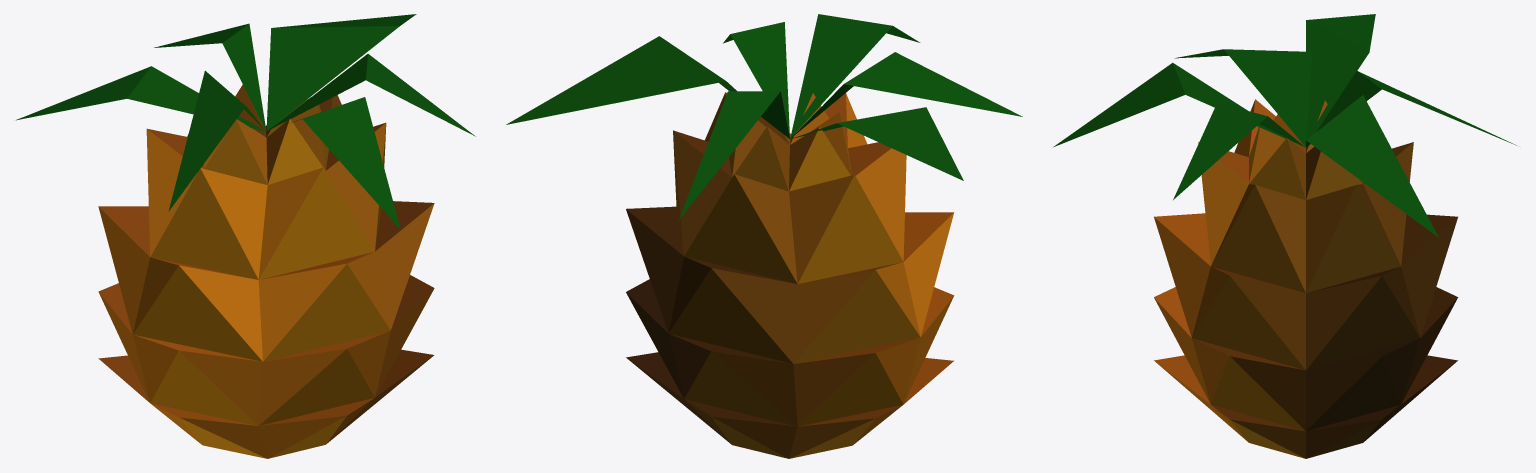
The model's file is pineapple.obj.
3 renders of one model, left to right at view 1: azimuth 30°, elevation 25°; view 2: azimuth 150°, elevation 25°; view 3: azimuth 270°, elevation 25°, orthographic. The views are drawn at different scales.
Visible parts, largest first — view 1: Item Pineapple 2026-10-24_20-41-06; view 2: Item Pineapple 2026-10-24_20-41-06; view 3: Item Pineapple 2026-10-24_20-41-06.
Part boxes in pixels (x1,y1,x2,y2): Item Pineapple 2026-10-24_20-41-06: (16, 14, 475, 458); Item Pineapple 2026-10-24_20-41-06: (506, 14, 1022, 458); Item Pineapple 2026-10-24_20-41-06: (1053, 14, 1516, 458).
Bounding box in the file's own units: 75 × 63 × 74.
